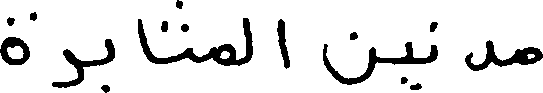ا: (136, 16, 155, 63), (276, 17, 288, 69)
ب: (103, 36, 114, 91)
ة: (0, 11, 37, 65)
ث: (159, 0, 191, 61)
د: (464, 38, 491, 71)
ر: (52, 47, 81, 89)
ل: (240, 15, 251, 64)
م: (210, 42, 235, 66), (519, 45, 541, 65)
ن: (321, 29, 375, 85), (427, 20, 436, 63)
ي: (396, 39, 419, 89)
